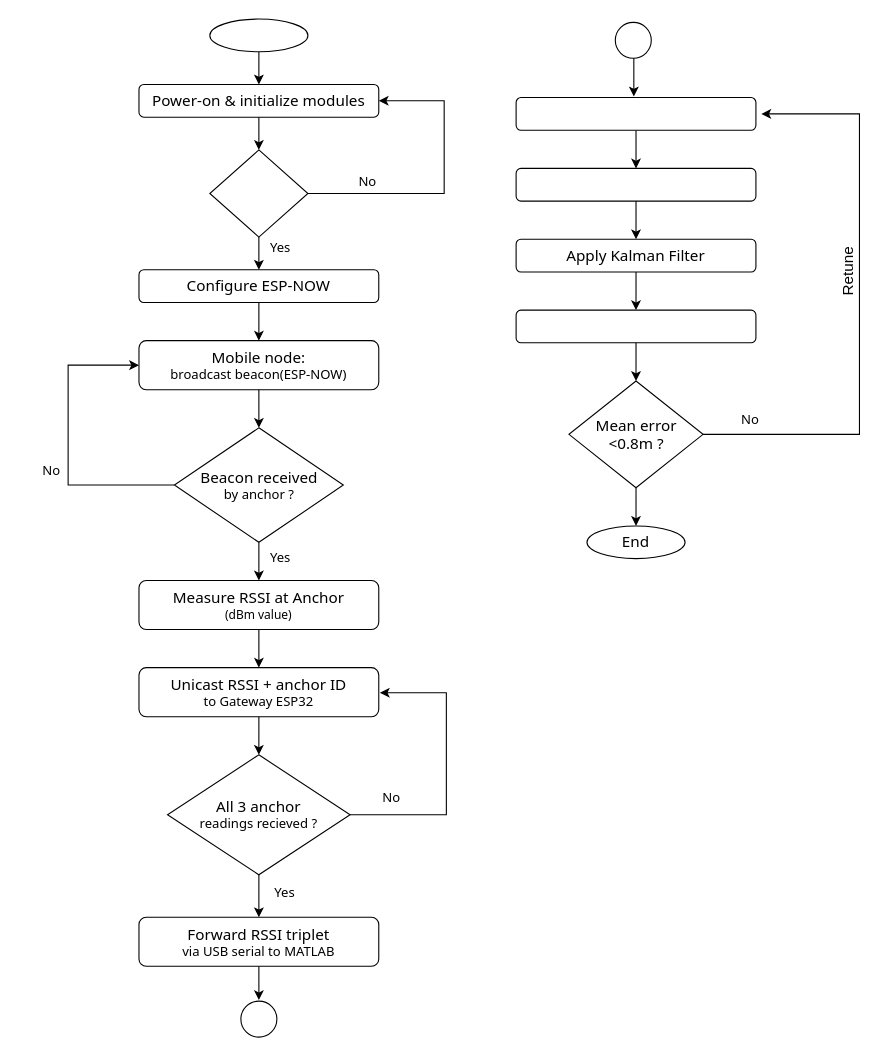
This 887x1056 diagram has some shape labels left out. Each missing label, with the centre of its shape:
"Apply Path Loss Model" goes at (x=635, y=113).
"Init OK?" goes at (x=258, y=193).
"Least-Squares Trilaterarion" goes at (x=635, y=184).
"Start" goes at (x=258, y=35).
"Update live Position Plot" goes at (x=635, y=326).
